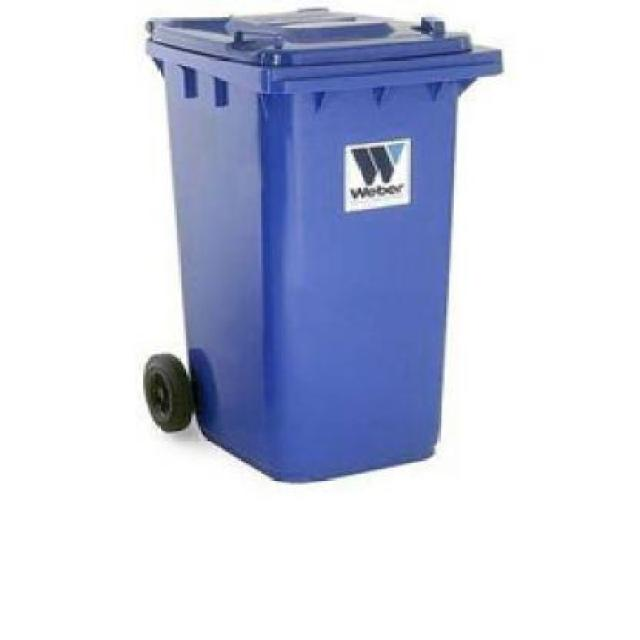garbage container: (124, 6, 528, 486)
